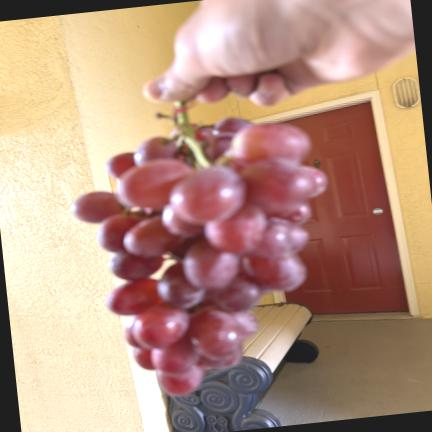grape_cluster: (71, 102, 327, 395)
